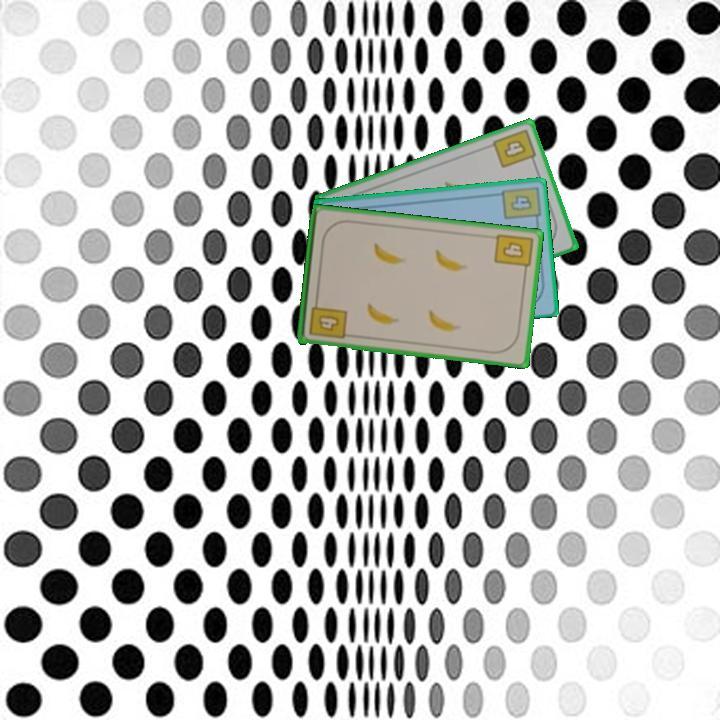4b: (489, 125, 539, 171), (491, 230, 535, 277), (305, 295, 349, 341), (497, 182, 542, 226)
